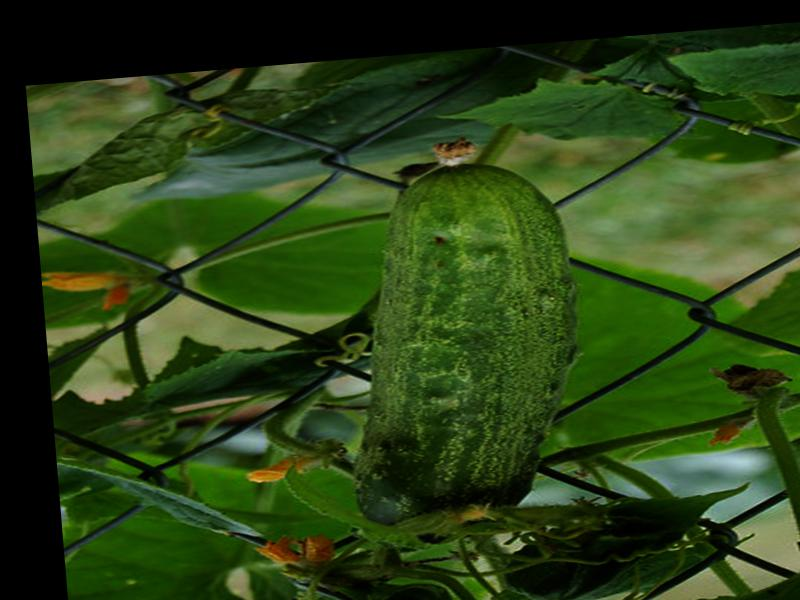Cucumber: (333, 134, 589, 545)
